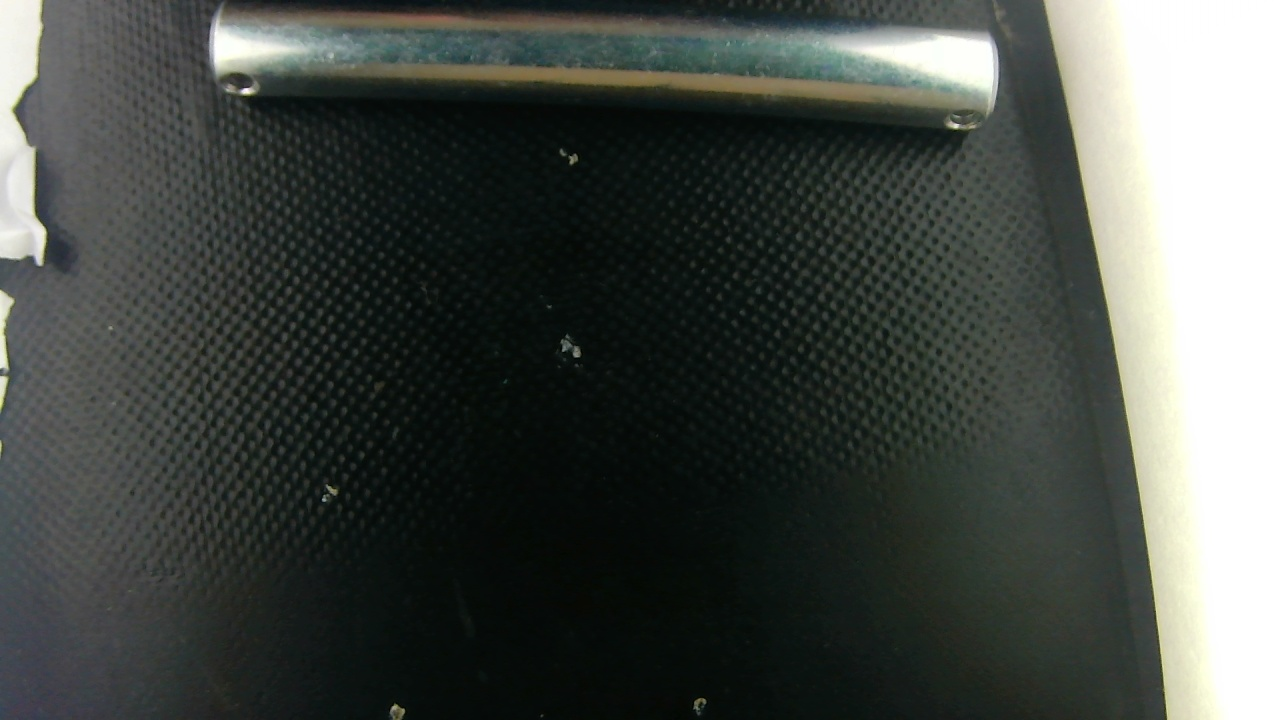Okay_Pin: (210, 2, 997, 130)
